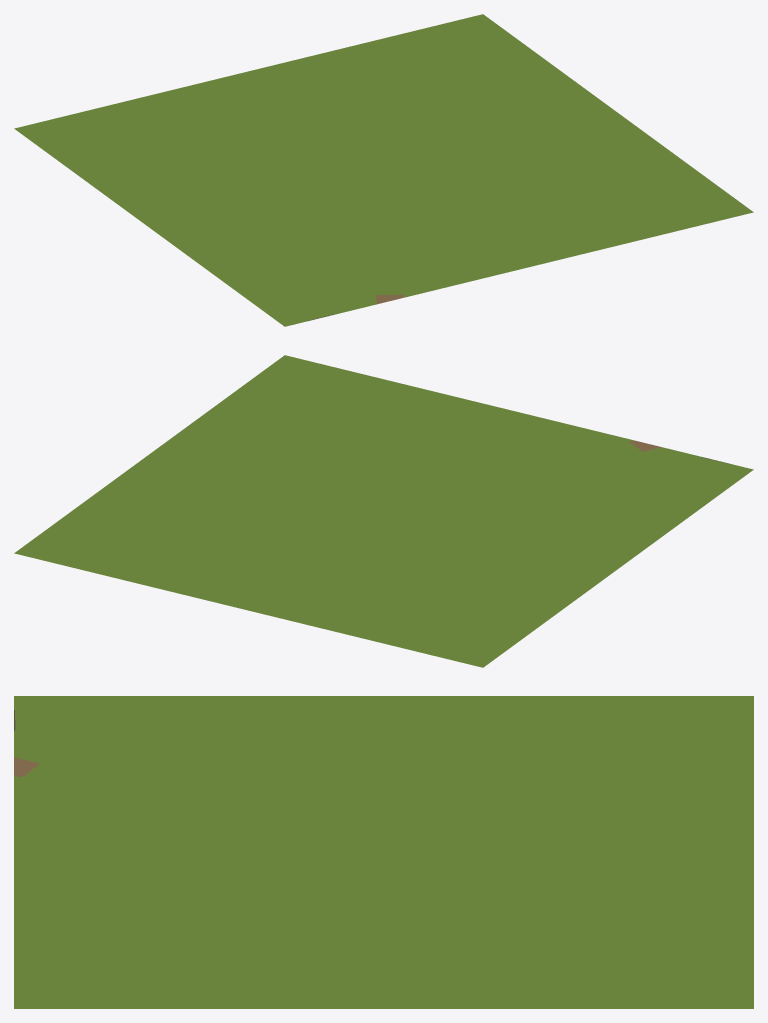
File: cure-17-0.glb
3 views of the same model, one above another, from view 1: azimuth 30°, elevation 25°; view 2: azimuth 150°, elevation 25°; view 3: azimuth 270°, elevation 25° (orthographic). The views are drawn at different scales.
Visible parts, largest first — view 1: cure-17-0; view 2: cure-17-0; view 3: cure-17-0.
Boxes of the visible parts, x1=… form: cure-17-0: x1=14, y1=14, x2=753, y2=326; cure-17-0: x1=14, y1=355, x2=753, y2=667; cure-17-0: x1=14, y1=696, x2=753, y2=1008.
Bounding box in the file's own units: 100 × 0.003 × 100.
